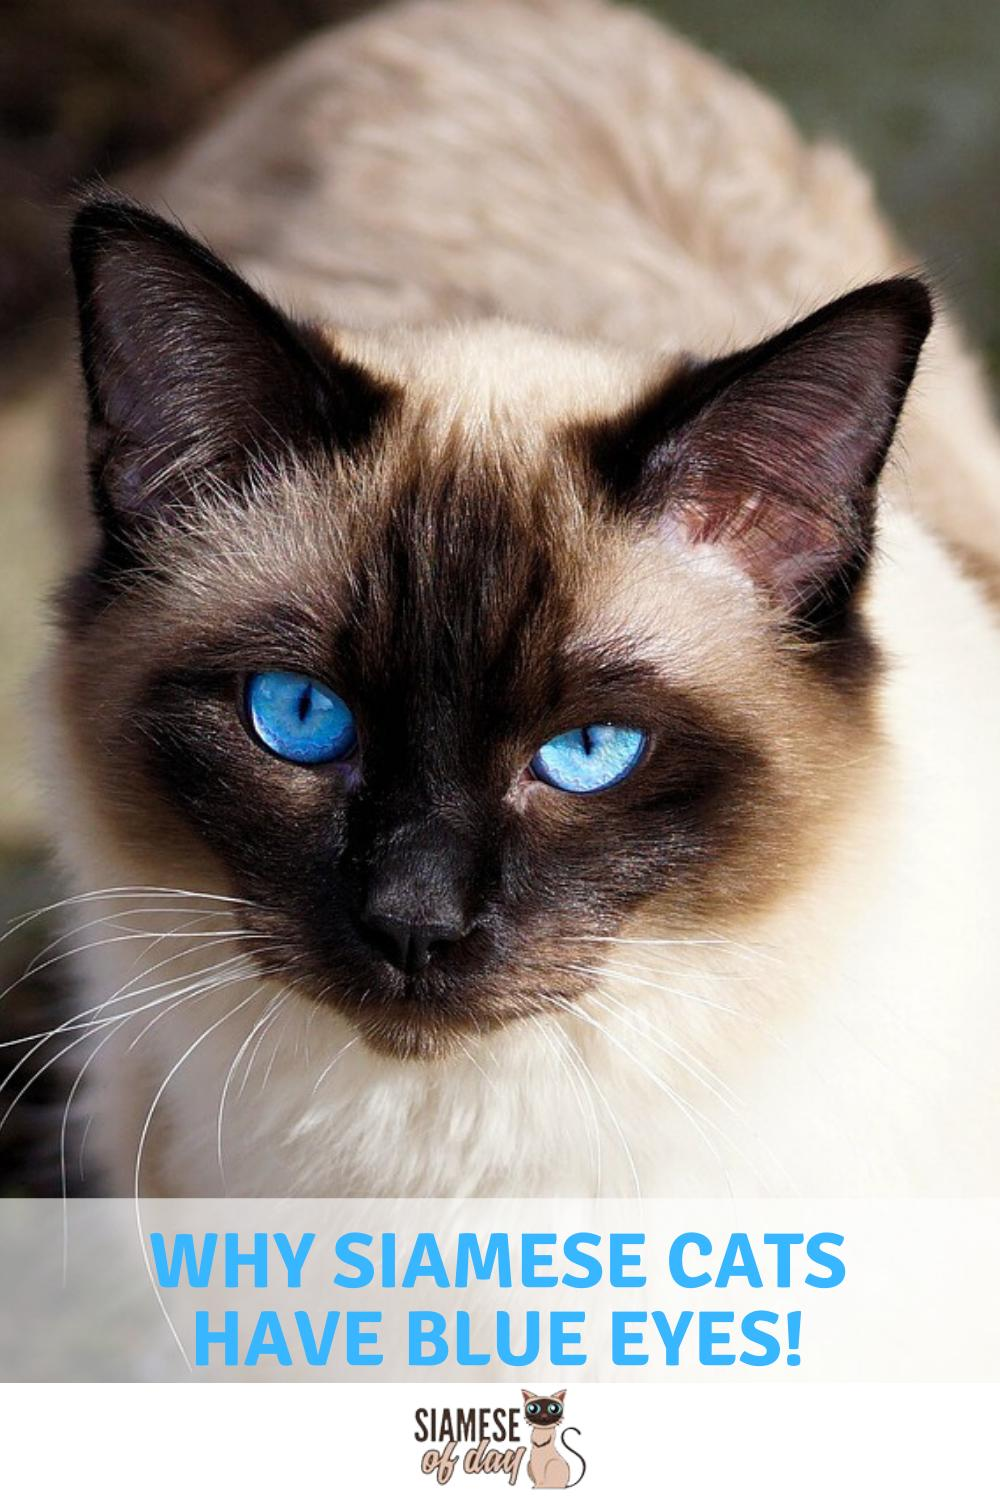siamese: (49, 164, 954, 1094)
